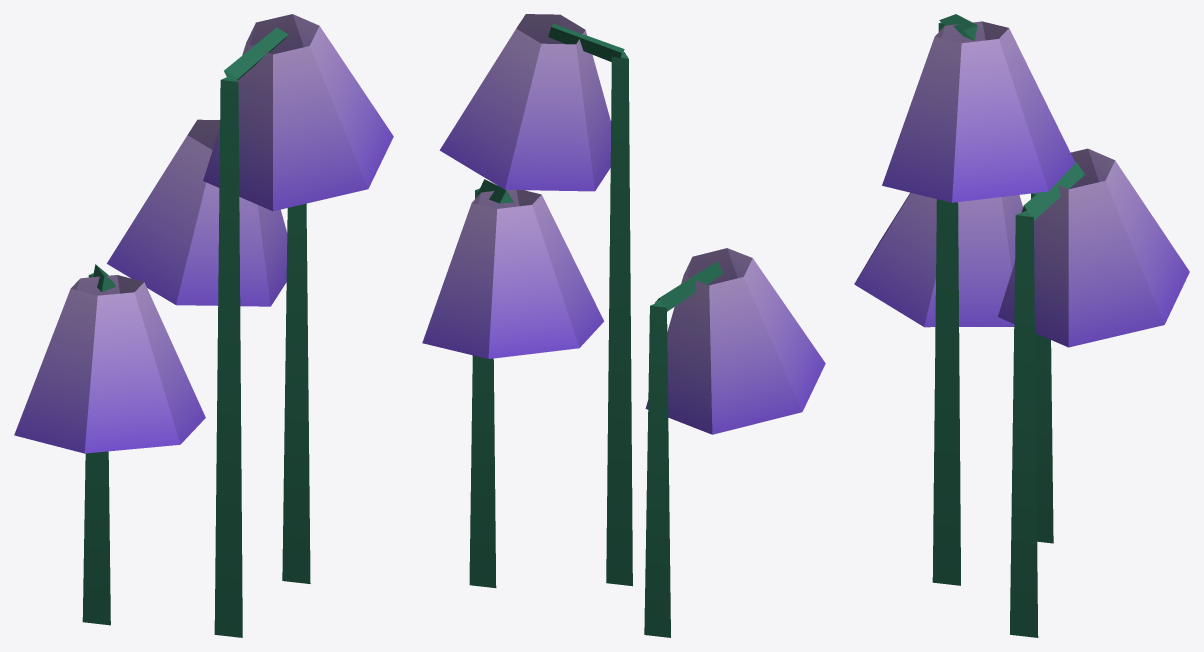
The model's file is flower-bell.glb.
3 views of the same model, side by side, from view 1: azimuth 30°, elevation 25°; view 2: azimuth 150°, elevation 25°; view 3: azimuth 270°, elevation 25° (orthographic). The views are drawn at different scales.
Parts seen in each view (by area): view 1: flower-bell; view 2: flower-bell; view 3: flower-bell.
Part boxes in pixels (x1=…): flower-bell: x1=14, y1=14, x2=393, y2=637; flower-bell: x1=422, y1=14, x2=825, y2=637; flower-bell: x1=854, y1=14, x2=1189, y2=637.
Bounding box in the file's own units: 0.556 × 0.8378 × 0.4359.
